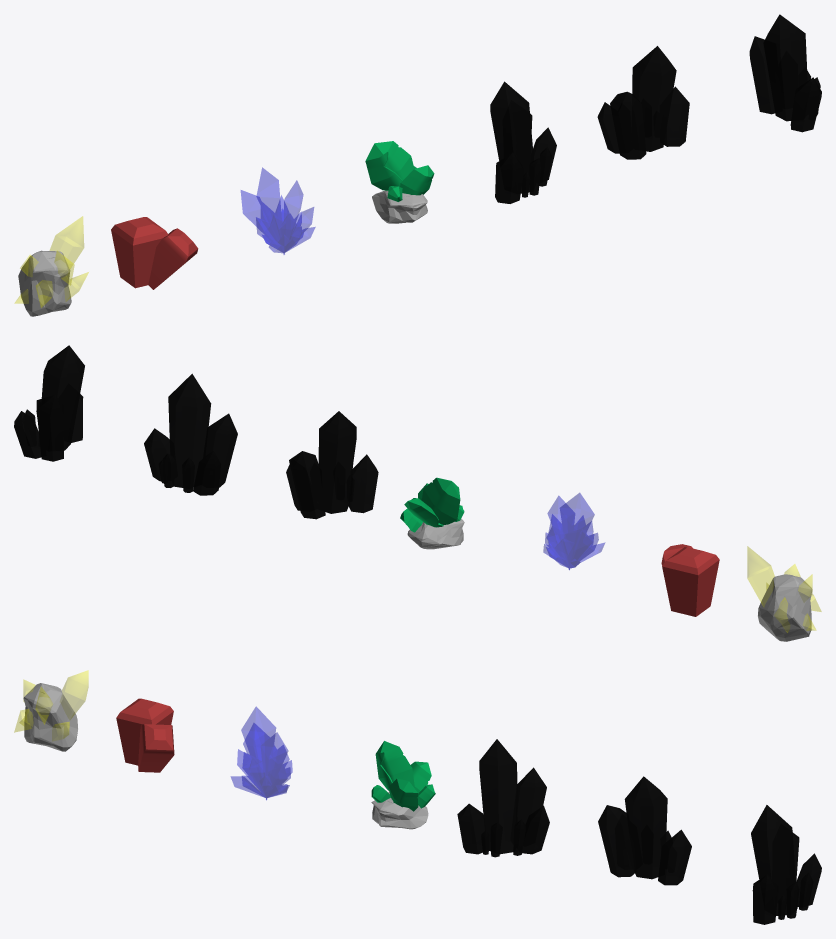
The model's file is CrystalCollection.fbx.
The picture shows the model from 3 angles, top to bottom: view 1: azimuth 30°, elevation 25°; view 2: azimuth 150°, elevation 25°; view 3: azimuth 330°, elevation 25°; orthographic projection. The views are drawn at different scales.
Visible parts, largest first — view 1: blueCrystals:pCylinder1, greenCrystals:pCylinder1, sharpCrystalRock, pinkCrystals:pCylinder1, ruby1, greenCrystals:pCylinder2, gemRock2, ruby2, rock1, blueCrystals:pCylinder6, pinkCrystals:pCylinder6, blueCrystals:pCylinder2 (+7 smaller); view 2: greenCrystals:pCylinder1, pinkCrystals:pCylinder1, ruby1, sharpCrystalRock, blueCrystals:pCylinder1, pinkCrystals:pCylinder2, blueCrystals:pCylinder2, greenCrystals:pCylinder2, gemRock2, pinkCrystals:pCylinder6, rock1, spikeCrystal (+7 smaller); view 3: greenCrystals:pCylinder1, pinkCrystals:pCylinder1, sharpCrystalRock, blueCrystals:pCylinder1, ruby1, greenCrystals:pCylinder2, ruby2, spikeCrystal, greenCrystals:pCylinder6, rock1, gemRock2, pinkCrystals:pCylinder2 (+8 smaller).
Part boxes in pixels (x1=…): blueCrystals:pCylinder1: x1=763, y1=14, x2=807, y2=121; greenCrystals:pCylinder1: x1=632, y1=46, x2=676, y2=151; sharpCrystalRock: x1=18, y1=250, x2=71, y2=316; pinkCrystals:pCylinder1: x1=490, y1=81, x2=533, y2=193; ruby1: x1=111, y1=217, x2=168, y2=288; greenCrystals:pCylinder2: x1=610, y1=91, x2=646, y2=159; gemRock2: x1=365, y1=141, x2=414, y2=190; ruby2: x1=148, y1=228, x2=198, y2=289; rock1: x1=372, y1=190, x2=427, y2=223; blueCrystals:pCylinder6: x1=790, y1=77, x2=821, y2=132; pinkCrystals:pCylinder6: x1=495, y1=152, x2=523, y2=203; blueCrystals:pCylinder2: x1=749, y1=36, x2=774, y2=114; greenCrystals:pCylinder1: x1=168, y1=373, x2=211, y2=487; pinkCrystals:pCylinder1: x1=318, y1=411, x2=356, y2=513; ruby1: x1=662, y1=547, x2=719, y2=616; sharpCrystalRock: x1=758, y1=574, x2=812, y2=641; blueCrystals:pCylinder1: x1=41, y1=345, x2=84, y2=450; pinkCrystals:pCylinder2: x1=289, y1=451, x2=325, y2=519; blueCrystals:pCylinder2: x1=36, y1=395, x2=63, y2=461; greenCrystals:pCylinder2: x1=203, y1=413, x2=237, y2=487; gemRock2: x1=421, y1=477, x2=460, y2=524; pinkCrystals:pCylinder6: x1=348, y1=454, x2=378, y2=513; rock1: x1=407, y1=518, x2=464, y2=549; spikeCrystal: x1=560, y1=493, x2=594, y2=559; greenCrystals:pCylinder1: x1=624, y1=776, x2=667, y2=879; pinkCrystals:pCylinder1: x1=479, y1=739, x2=517, y2=854; sharpCrystalRock: x1=23, y1=683, x2=77, y2=751; blueCrystals:pCylinder1: x1=751, y1=805, x2=797, y2=915; ruby1: x1=116, y1=698, x2=173, y2=765; greenCrystals:pCylinder2: x1=598, y1=805, x2=634, y2=877; ruby2: x1=138, y1=724, x2=174, y2=772; spikeCrystal: x1=241, y1=706, x2=275, y2=798; greenCrystals:pCylinder6: x1=658, y1=829, x2=691, y2=885; rock1: x1=371, y1=792, x2=428, y2=829; gemRock2: x1=375, y1=741, x2=414, y2=791; pinkCrystals:pCylinder2: x1=517, y1=767, x2=546, y2=824.
Size of the model in its own units: 15.22 by 2.19 by 1.59.
